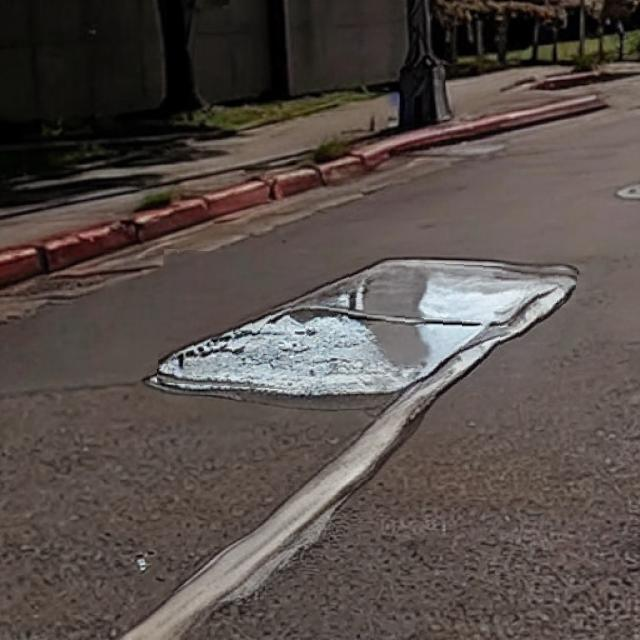puddle: (159, 256, 577, 400)
